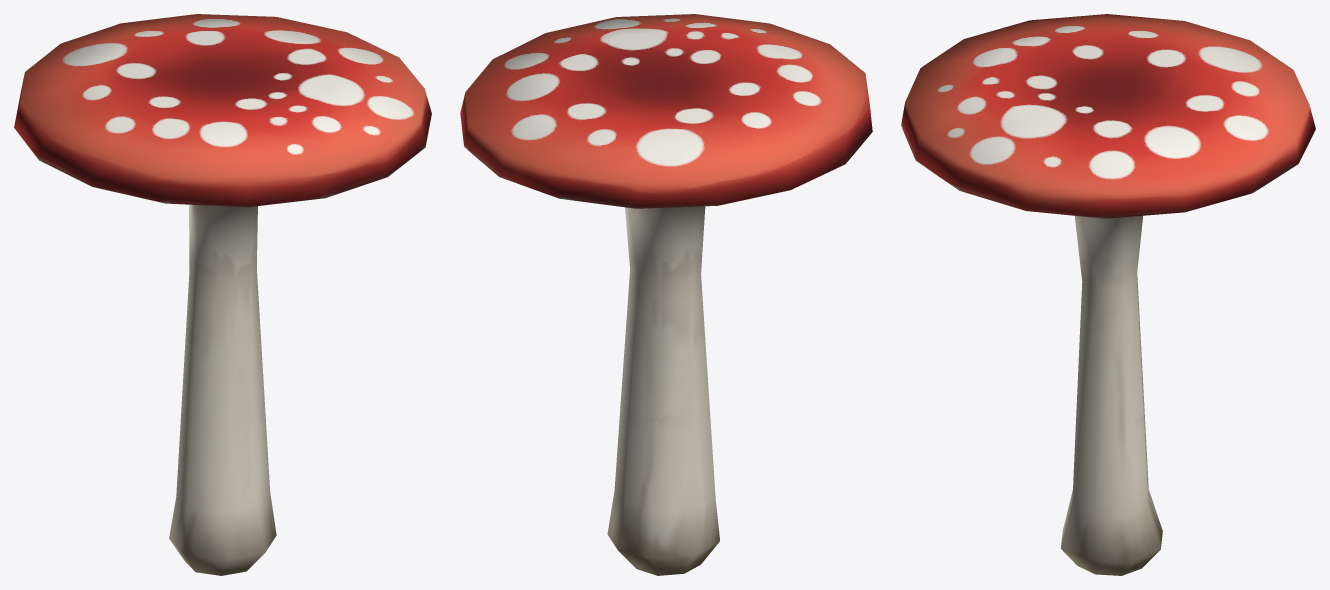
Rendered from FlyAgaric_005.fbx.
3 views of the same model, side by side, from view 1: azimuth 30°, elevation 25°; view 2: azimuth 150°, elevation 25°; view 3: azimuth 270°, elevation 25° (orthographic).
Parts seen in each view (by area): view 1: FlyAgaric_06_LOD0; view 2: FlyAgaric_06_LOD0; view 3: FlyAgaric_06_LOD0.
Boxes of the visible parts, <box> form: FlyAgaric_06_LOD0: <box>14,14,431,575</box>; FlyAgaric_06_LOD0: <box>460,14,872,575</box>; FlyAgaric_06_LOD0: <box>901,14,1315,575</box>.
Size of what is drawn, in the model's own units: 26.51 by 33.87 by 26.52.
